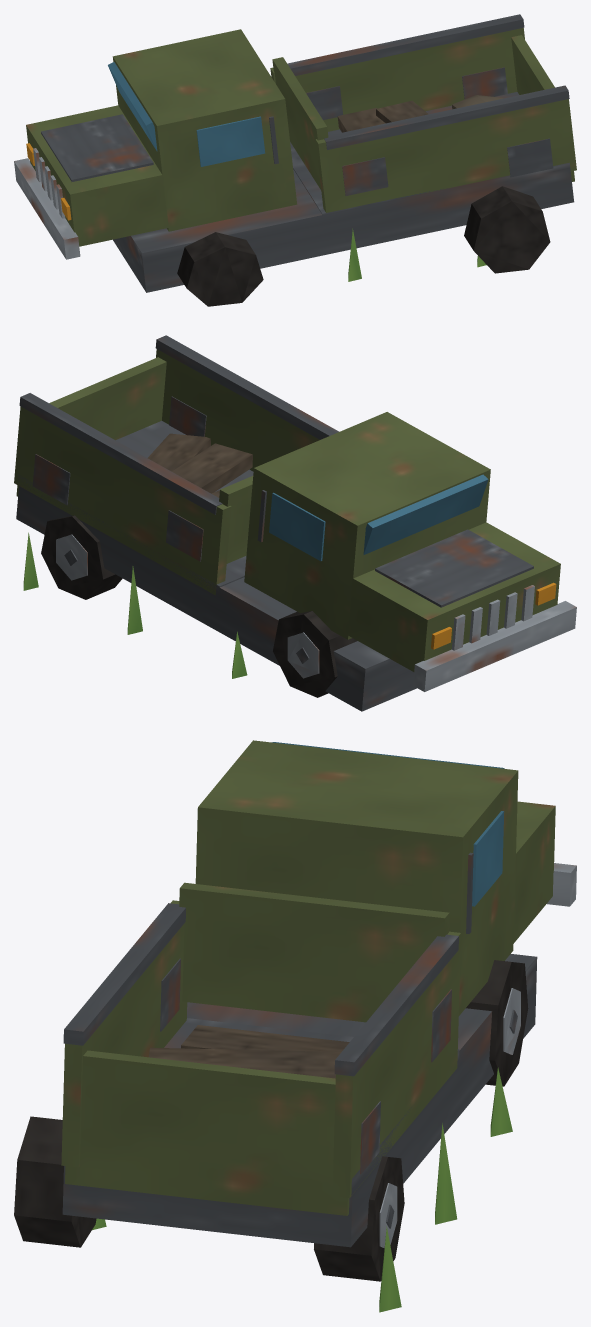
The model's file is SM_POI_BrokenVehicle_LOD1.fbx.
3 renders of one model, top to bottom at view 1: azimuth 30°, elevation 25°; view 2: azimuth 150°, elevation 25°; view 3: azimuth 270°, elevation 25°, orthographic. The views are drawn at different scales.
Visible parts, largest first — view 1: SM_POI_BrokenVehicle_LOD1; view 2: SM_POI_BrokenVehicle_LOD1; view 3: SM_POI_BrokenVehicle_LOD1.
Boxes of the visible parts, x1,y1,x2,y2 form: SM_POI_BrokenVehicle_LOD1: (14, 14, 576, 306); SM_POI_BrokenVehicle_LOD1: (14, 335, 576, 711); SM_POI_BrokenVehicle_LOD1: (14, 740, 576, 1312).
Size of the model in its own units: 15.17 by 5.38 by 9.43.
1 material, 1 textured.
